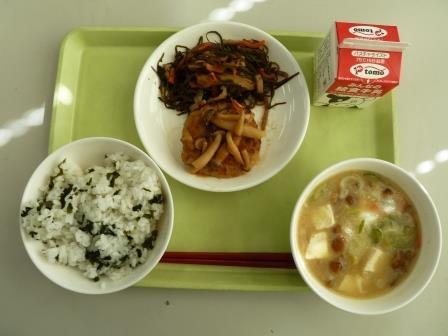Meat: (175, 99, 272, 180)
Milk: (311, 18, 415, 117)
Rice: (14, 138, 170, 299)
Soups: (293, 165, 428, 310)
salad with sauce: (162, 37, 282, 105)
